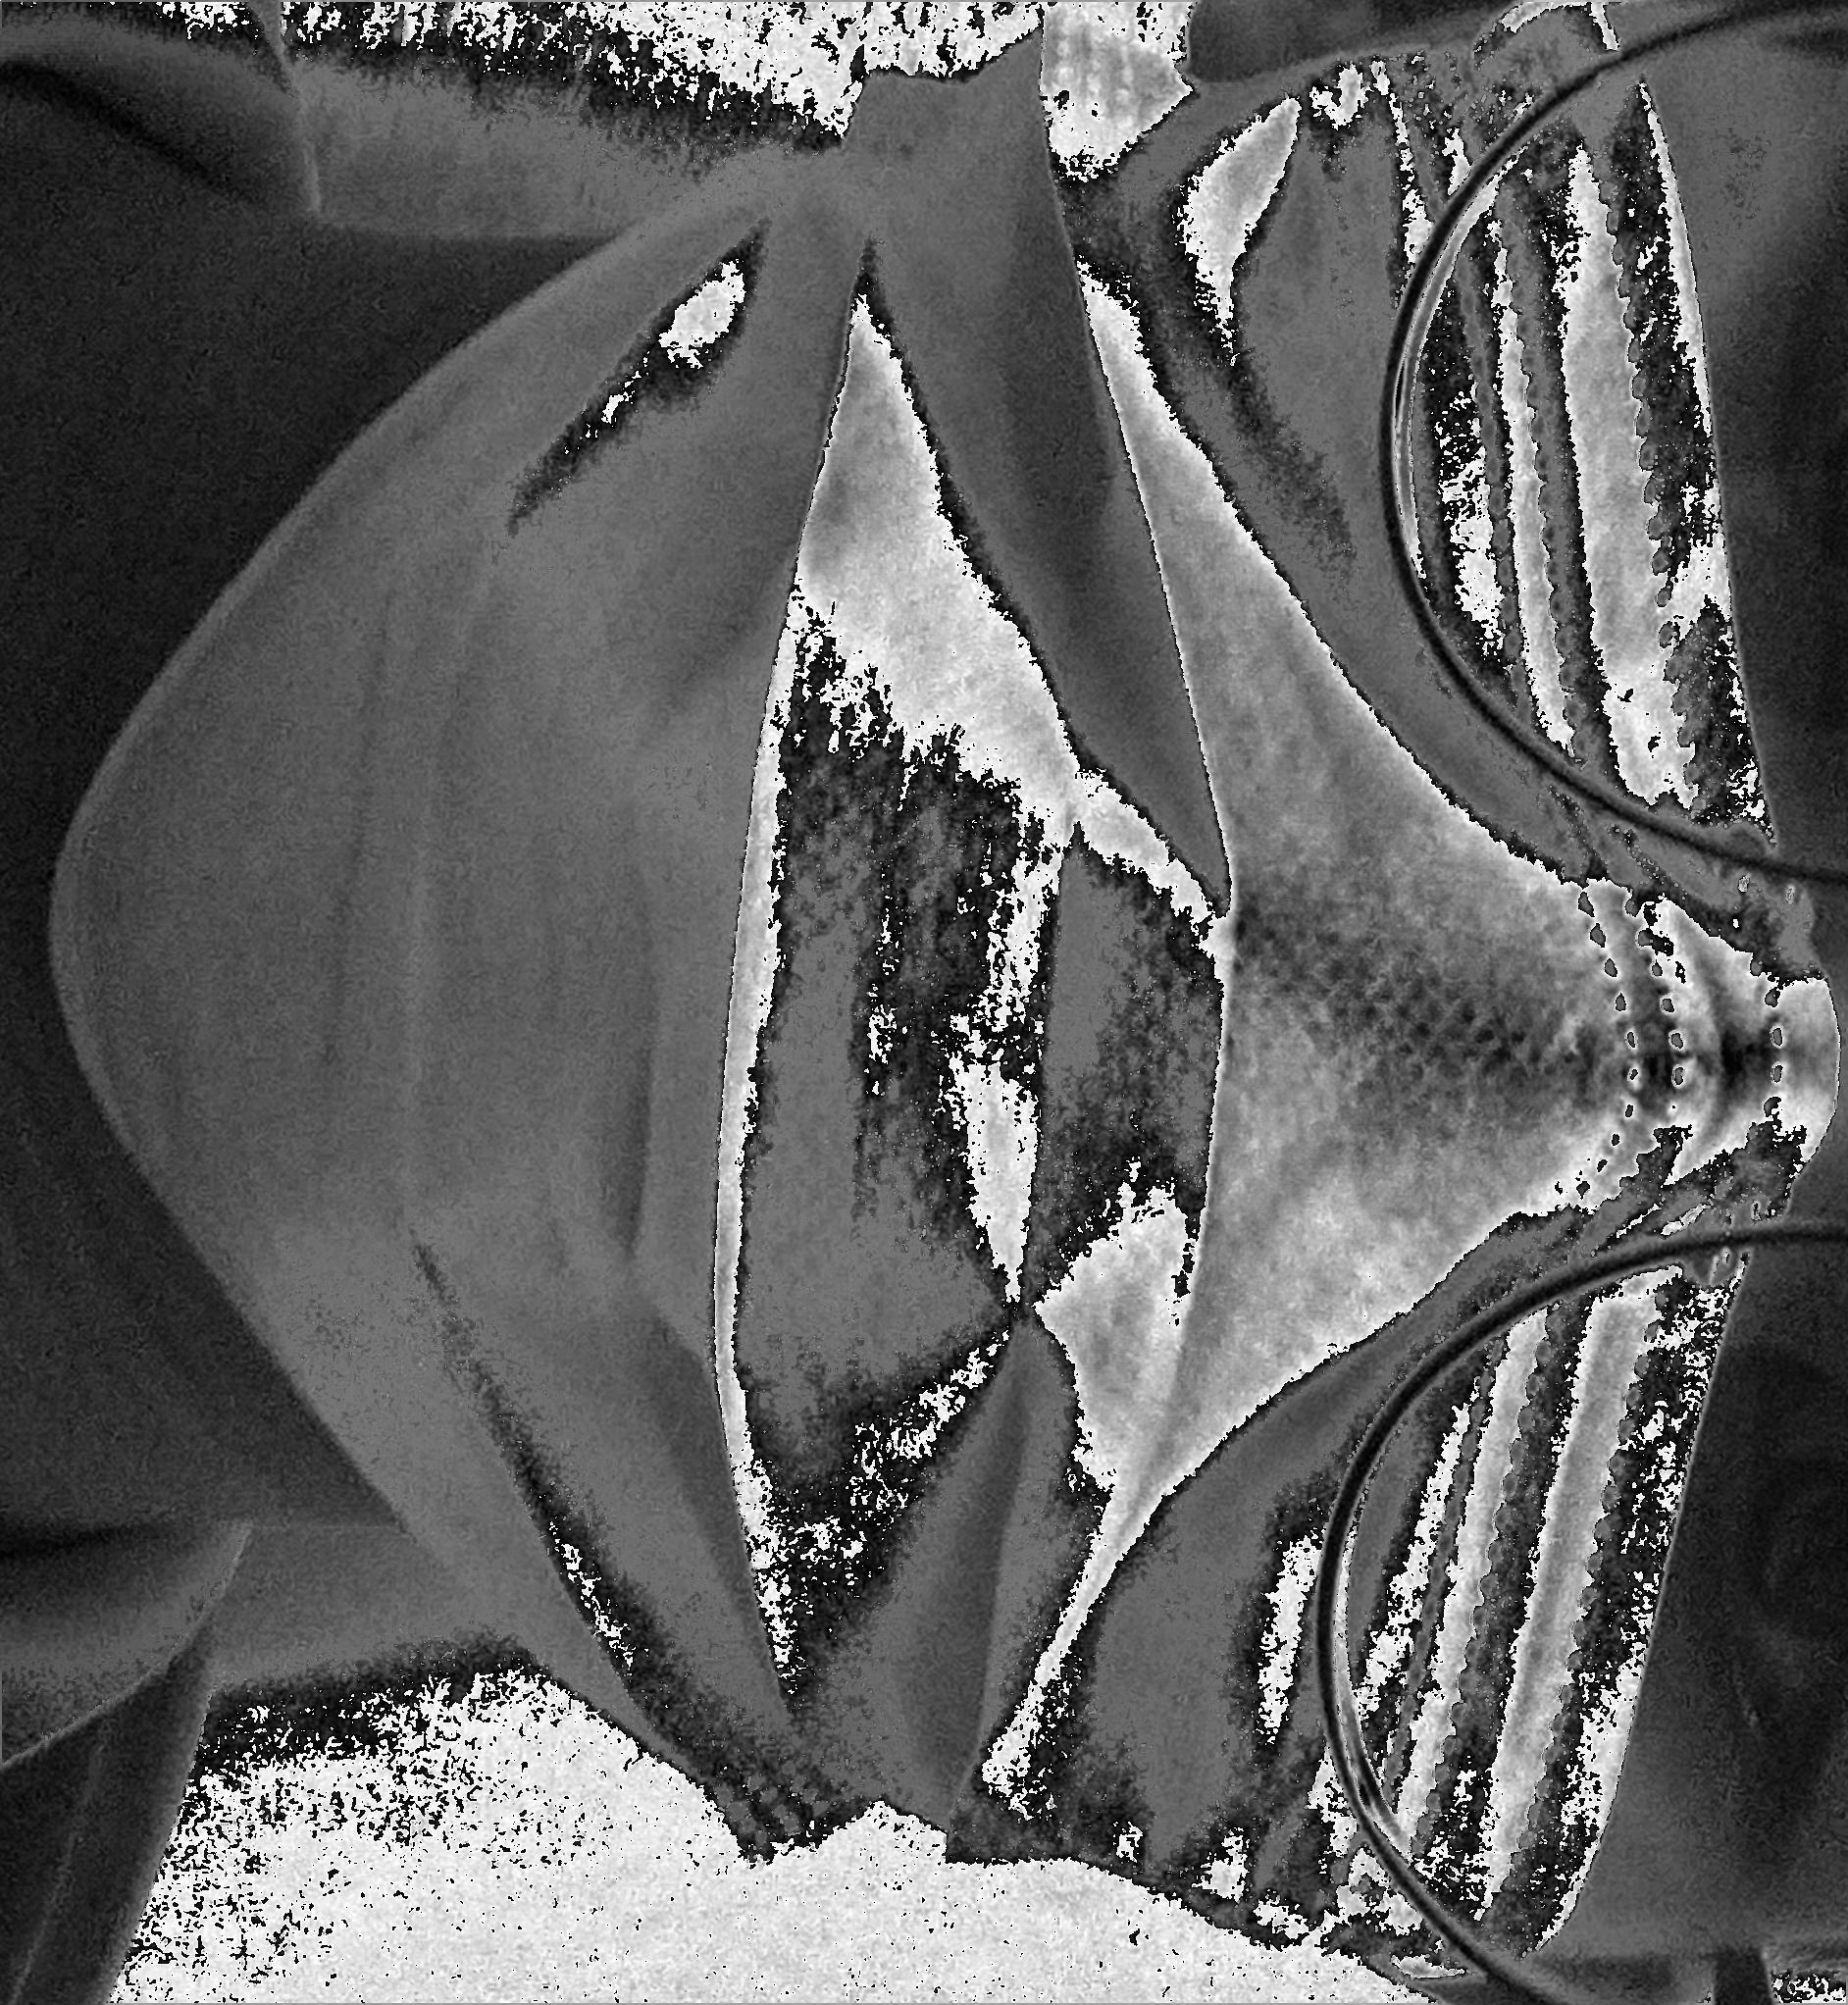Low GSM: (770, 318, 1368, 1287)
